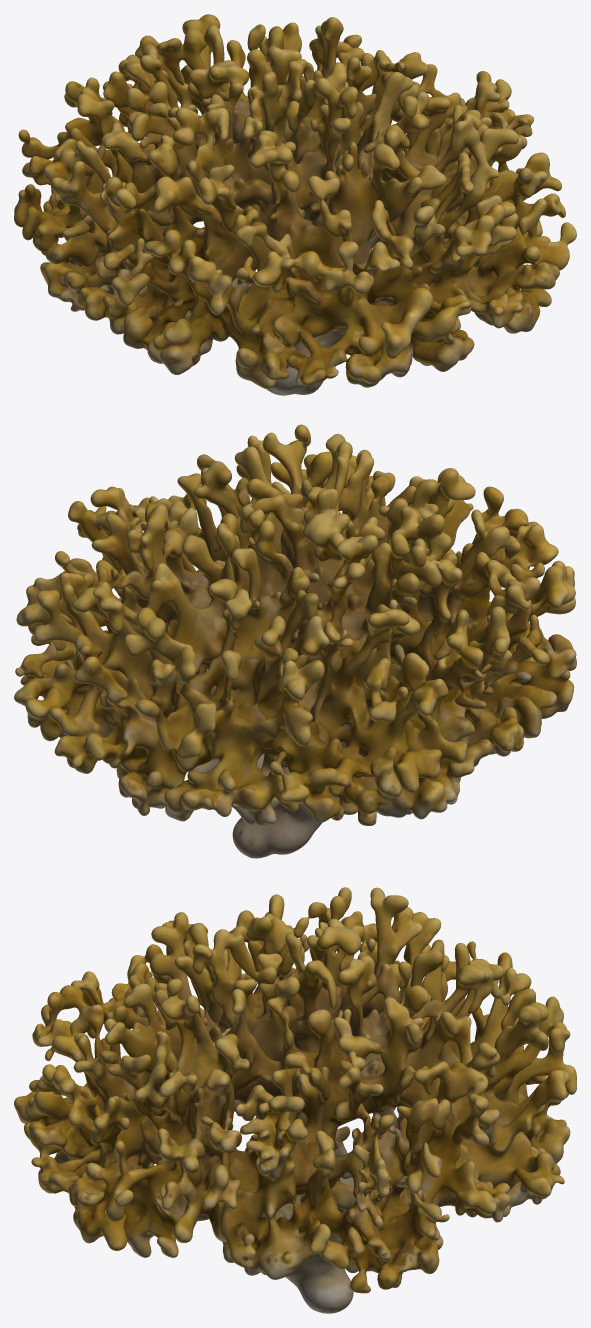
Rendered from coral_encrust.glb.
3 views of the same model, one above another, from view 1: azimuth 30°, elevation 25°; view 2: azimuth 150°, elevation 25°; view 3: azimuth 270°, elevation 25° (orthographic). The views are drawn at different scales.
Parts seen in each view (by area): view 1: tripo_node_d8b1a194-ddba-4d60-a311-cfdc3fa0bd21; view 2: tripo_node_d8b1a194-ddba-4d60-a311-cfdc3fa0bd21; view 3: tripo_node_d8b1a194-ddba-4d60-a311-cfdc3fa0bd21.
Boxes of the visible parts, box(x1,y1,x2,y2) form: tripo_node_d8b1a194-ddba-4d60-a311-cfdc3fa0bd21: box(14, 14, 576, 395); tripo_node_d8b1a194-ddba-4d60-a311-cfdc3fa0bd21: box(14, 424, 576, 858); tripo_node_d8b1a194-ddba-4d60-a311-cfdc3fa0bd21: box(14, 887, 576, 1313).
Bounding box in the file's own units: 0.9313 × 0.718 × 1.
1 material, 1 textured.
